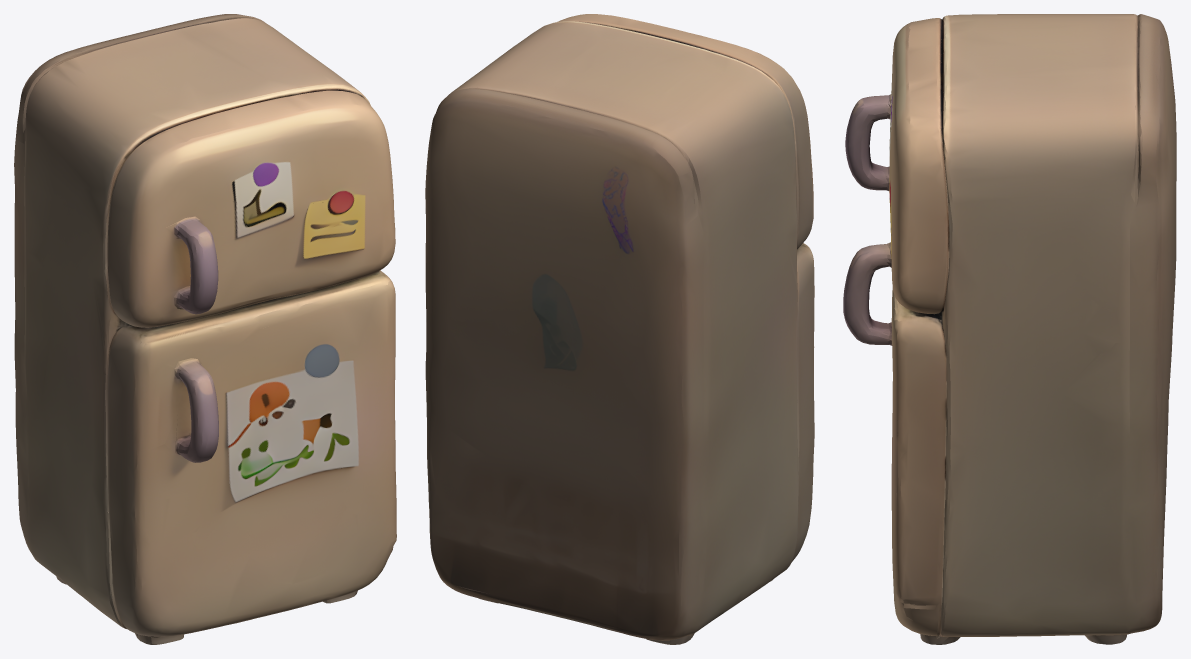
File: frigerator.glb
The picture shows the model from 3 angles, left to right: view 1: azimuth 30°, elevation 25°; view 2: azimuth 150°, elevation 25°; view 3: azimuth 270°, elevation 25°; orthographic projection. The views are drawn at different scales.
Visible parts, largest first — view 1: model; view 2: model; view 3: model.
Part boxes in pixels (bbox=[...]): model: bbox=[14, 14, 396, 644]; model: bbox=[425, 14, 814, 644]; model: bbox=[843, 14, 1176, 644].
Bounding box in the file's own units: 1.06 × 1.88 × 1.06.
Materials: 1 (1 with a texture image).
